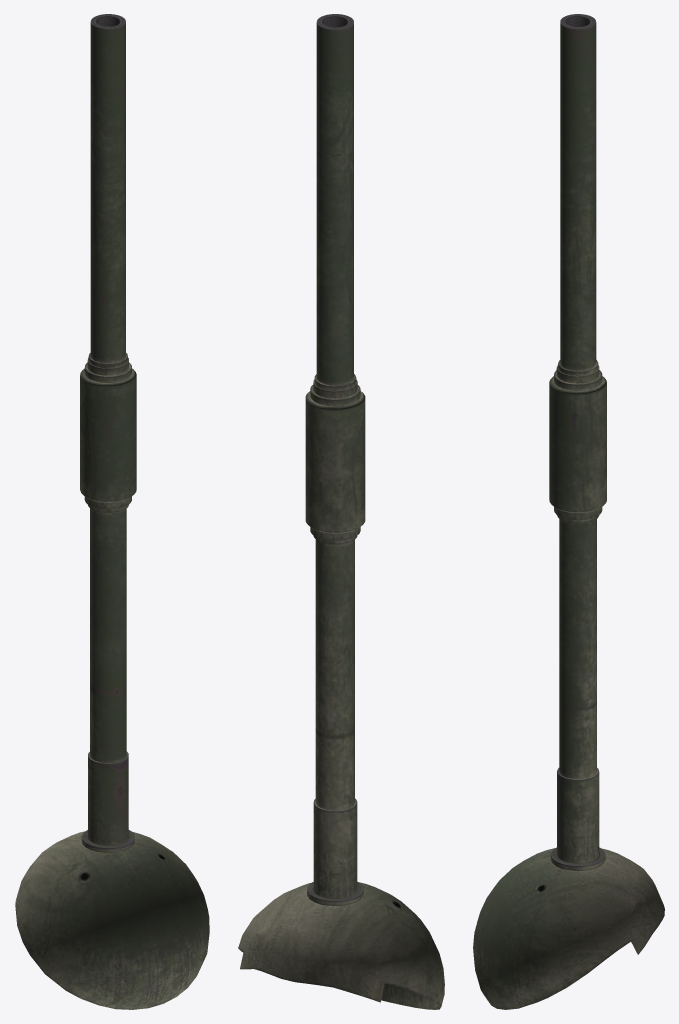
File: Gun_02.glb
3 renders of one model, left to right at view 1: azimuth 30°, elevation 25°; view 2: azimuth 150°, elevation 25°; view 3: azimuth 270°, elevation 25°, orthographic. The views are drawn at different scales.
Parts seen in each view (by area): view 1: set_0_group_0; view 2: set_0_group_0; view 3: set_0_group_0.
Boxes of the visible parts, x1,y1,x2,y2 form: set_0_group_0: (15,14,209,1009); set_0_group_0: (238,14,444,1009); set_0_group_0: (473,14,664,1009).
Bounding box in the file's own units: 0.775 × 4.08 × 0.7287.
Materials: 1 (1 with a texture image).
